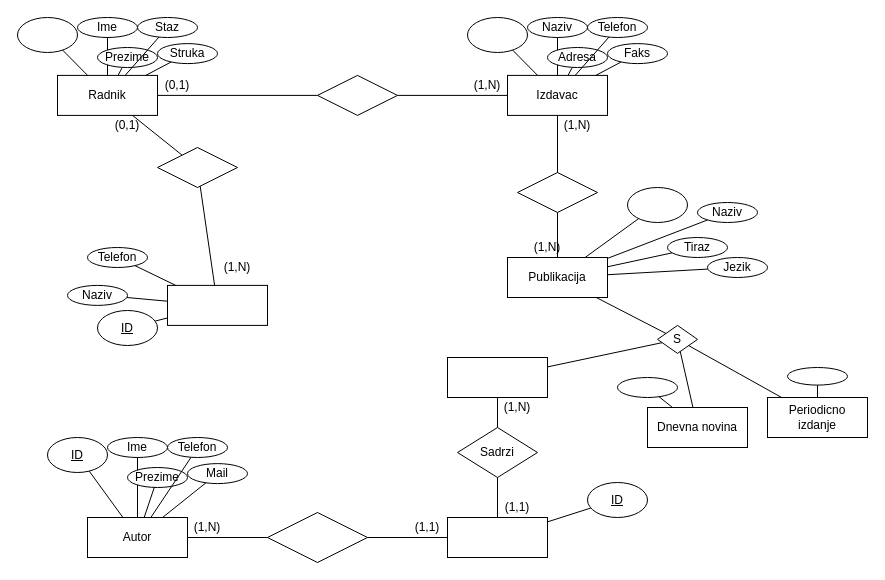
Image size: 885x580. Some labels were removed from this diagram. Here are the shapes that lost their labels. From the top down, the box of each, then its label:
(16, 16, 78, 52): JMBG
(466, 16, 528, 52): Mat br
(316, 74, 398, 115): Zaposljen
(156, 146, 238, 188): Vozi za
(516, 172, 598, 212): Objavljuje
(626, 186, 688, 222): ISBN
(166, 284, 268, 325): Distributer
(446, 356, 548, 398): Nedeljnik
(616, 376, 678, 398): Izdanje
(786, 366, 848, 385): Tema
(266, 512, 368, 562): Napisao
(446, 516, 548, 558): Kolumna
